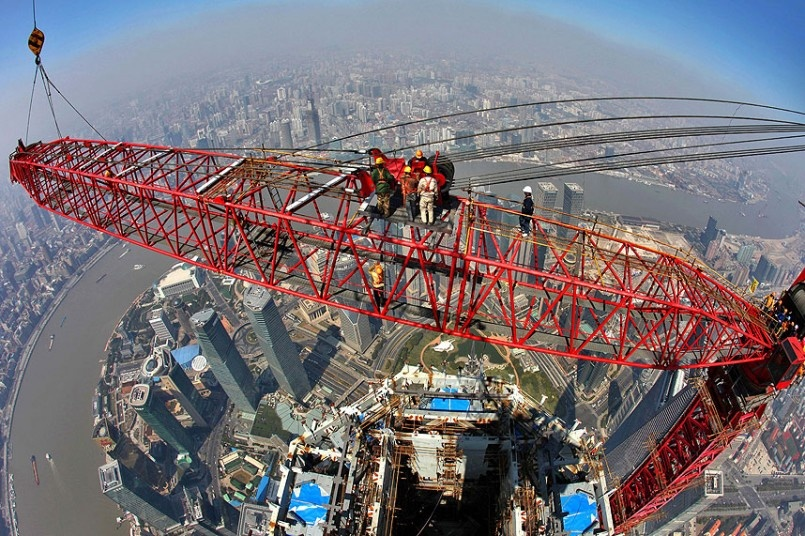white: (522, 185, 532, 196)
yellow: (374, 158, 384, 168), (422, 165, 431, 176), (414, 150, 423, 160), (374, 265, 383, 275), (403, 166, 411, 175)
